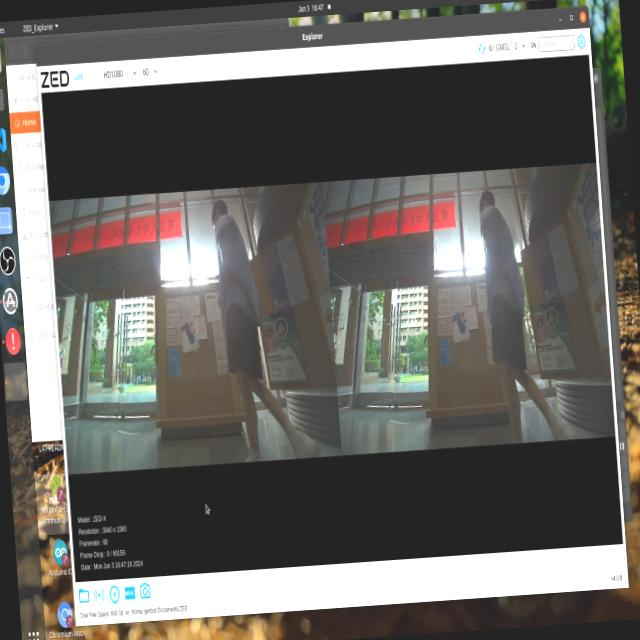blue: (180, 310, 207, 352), (452, 304, 472, 339)
